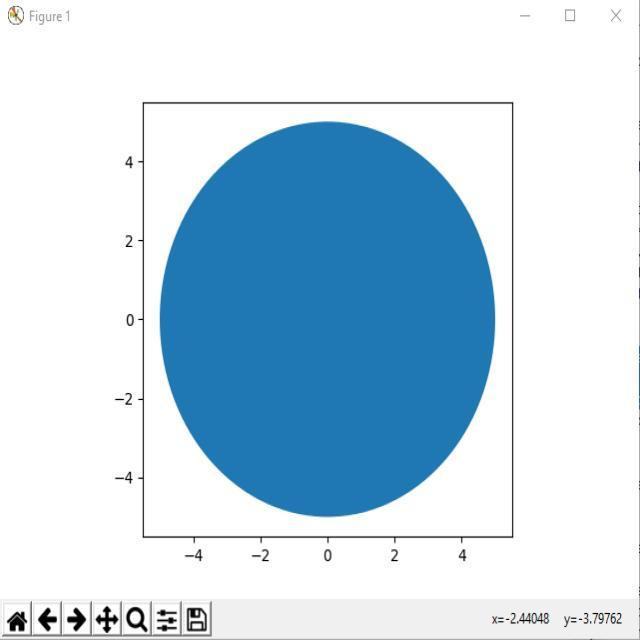Circle: (160, 122, 495, 516)
